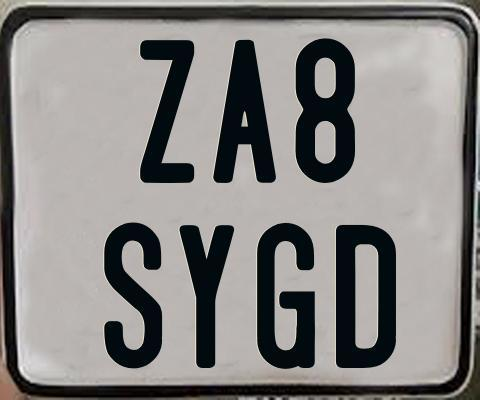8: (294, 37, 358, 184)
A: (212, 38, 278, 186)
D: (334, 225, 400, 373)
G: (254, 221, 315, 373)
S: (104, 222, 166, 375)
Y: (179, 223, 238, 366)
Z: (140, 38, 199, 181)
